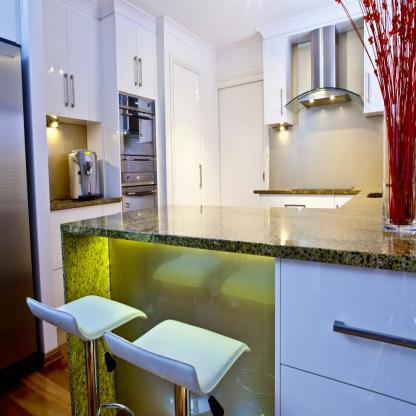door: (216, 78, 265, 208), (169, 57, 206, 205)
